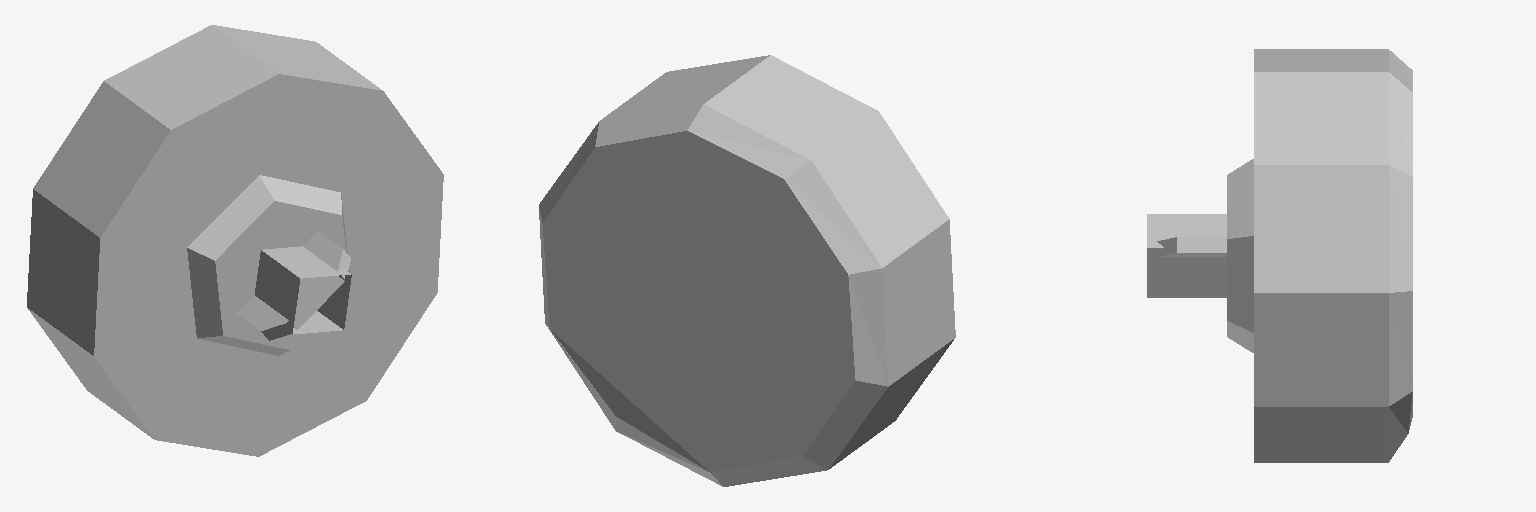
File: wheel47.obj
3 views of the same model, side by side, from view 1: azimuth 30°, elevation 25°; view 2: azimuth 150°, elevation 25°; view 3: azimuth 270°, elevation 25° (orthographic).
Visible parts, largest first — view 1: wheel_low_textures; view 2: wheel_low_textures; view 3: wheel_low_textures.
Part boxes in pixels (x1,y1,x2,y2): wheel_low_textures: (27, 25, 443, 456); wheel_low_textures: (539, 55, 955, 486); wheel_low_textures: (1147, 49, 1412, 462).
Size of the model in its own units: 1.51 by 1.56 by 0.9907.